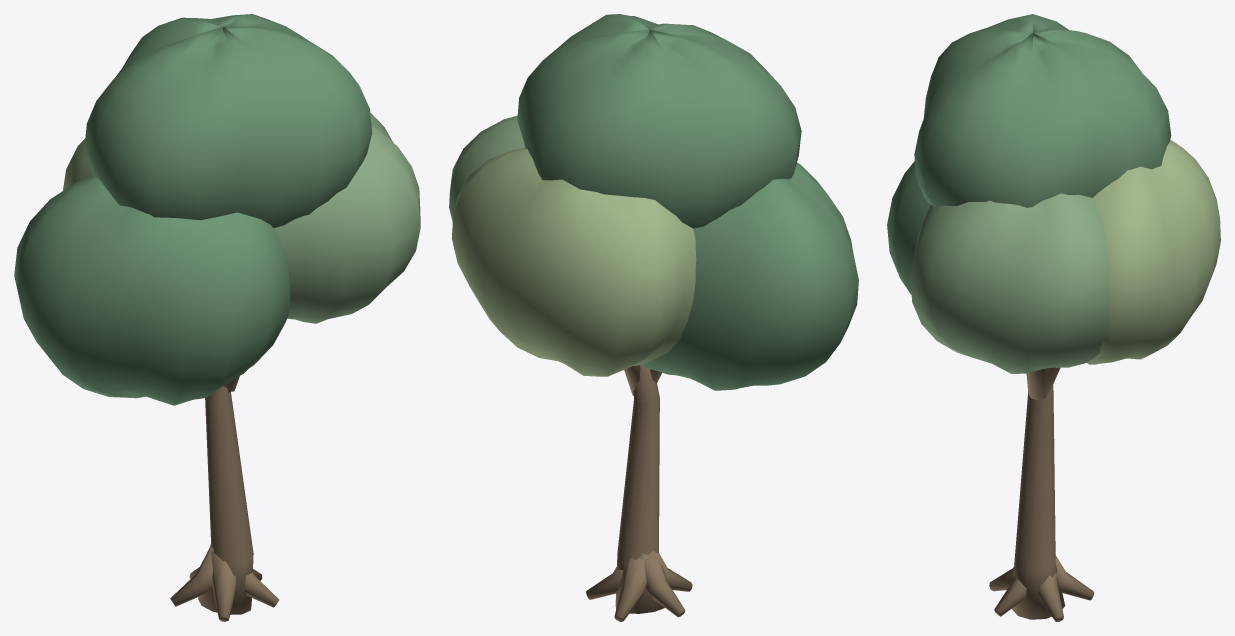
The model's file is SM_Broadleaf_03_UV_0076.fbx.
3 views of the same model, side by side, from view 1: azimuth 30°, elevation 25°; view 2: azimuth 150°, elevation 25°; view 3: azimuth 270°, elevation 25° (orthographic).
Parts seen in each view (by area): view 1: SM_Broadleaf_03_UV_0076; view 2: SM_Broadleaf_03_UV_0076; view 3: SM_Broadleaf_03_UV_0076.
Boxes of the visible parts, x1=… form: SM_Broadleaf_03_UV_0076: x1=14, y1=14, x2=420, y2=621; SM_Broadleaf_03_UV_0076: x1=449, y1=14, x2=858, y2=621; SM_Broadleaf_03_UV_0076: x1=887, y1=14, x2=1220, y2=621.
Bounding box in the file's own units: 607 × 469 × 889.
